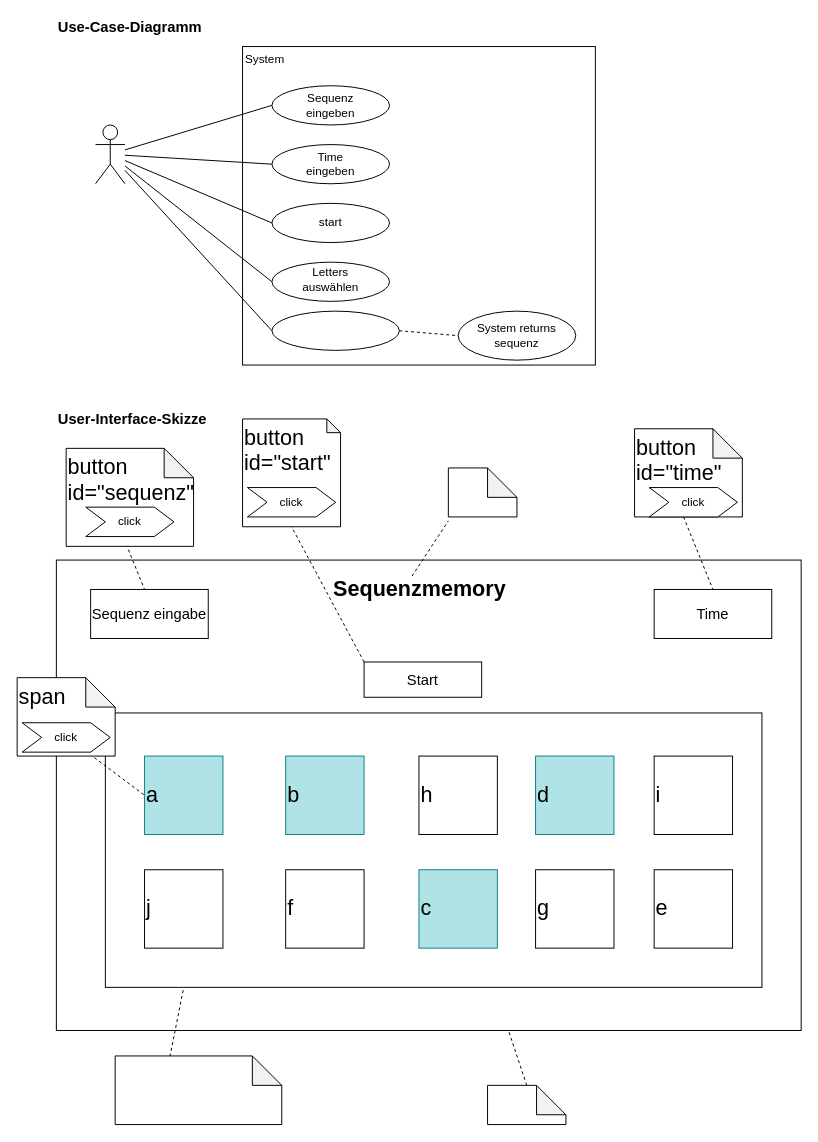
This 818x1142 diagram has some shape labels left out. Here are the shapes that lost their labels. From the top down, the centre of each, then its label:
[110,154]: User
[335,330]: letters aufdecken per Klick
[482,492]: h1
[198,1090]: div id="gameTable"
[526,1104]: body
